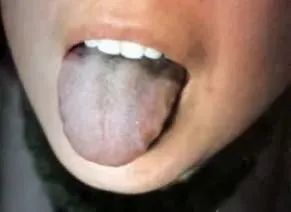baitaishe: (58, 45, 181, 166)
chihenshe: (141, 86, 178, 153)
